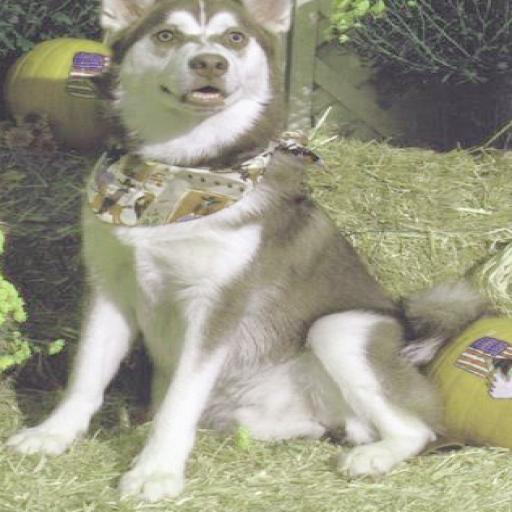dog_face: (100, 0, 295, 109)
